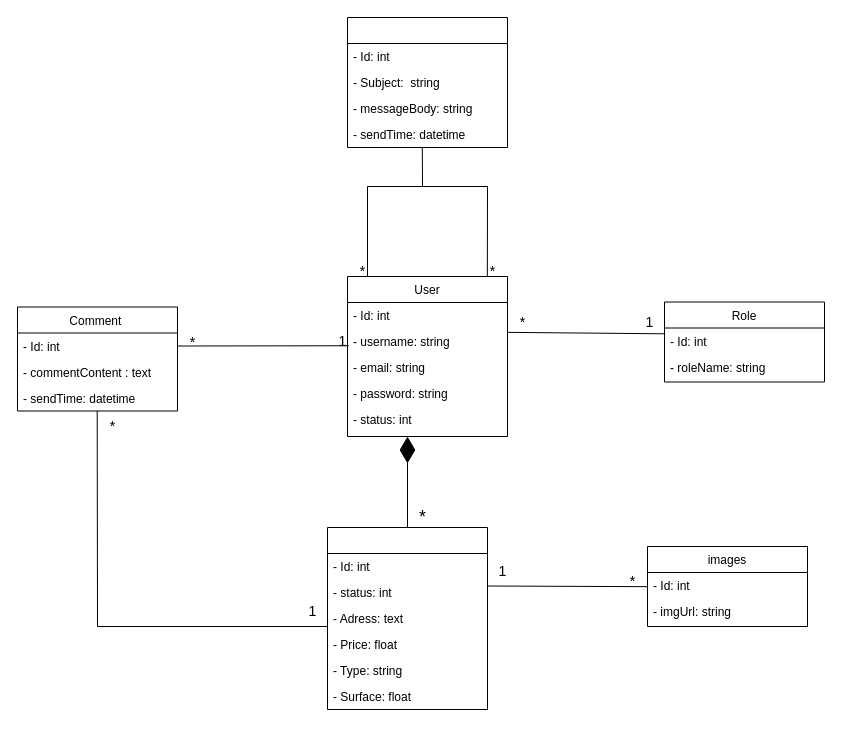
The diagram is 842 pixels wide and 730 high, and some of its shapes have lost their labels. The shapes that lost their labels are listed below. From the top down, each one's box as (x1, y1, x2, y2) in pixels, then its label:
(346, 16, 508, 148): Message-user
(326, 526, 488, 710): Properties
